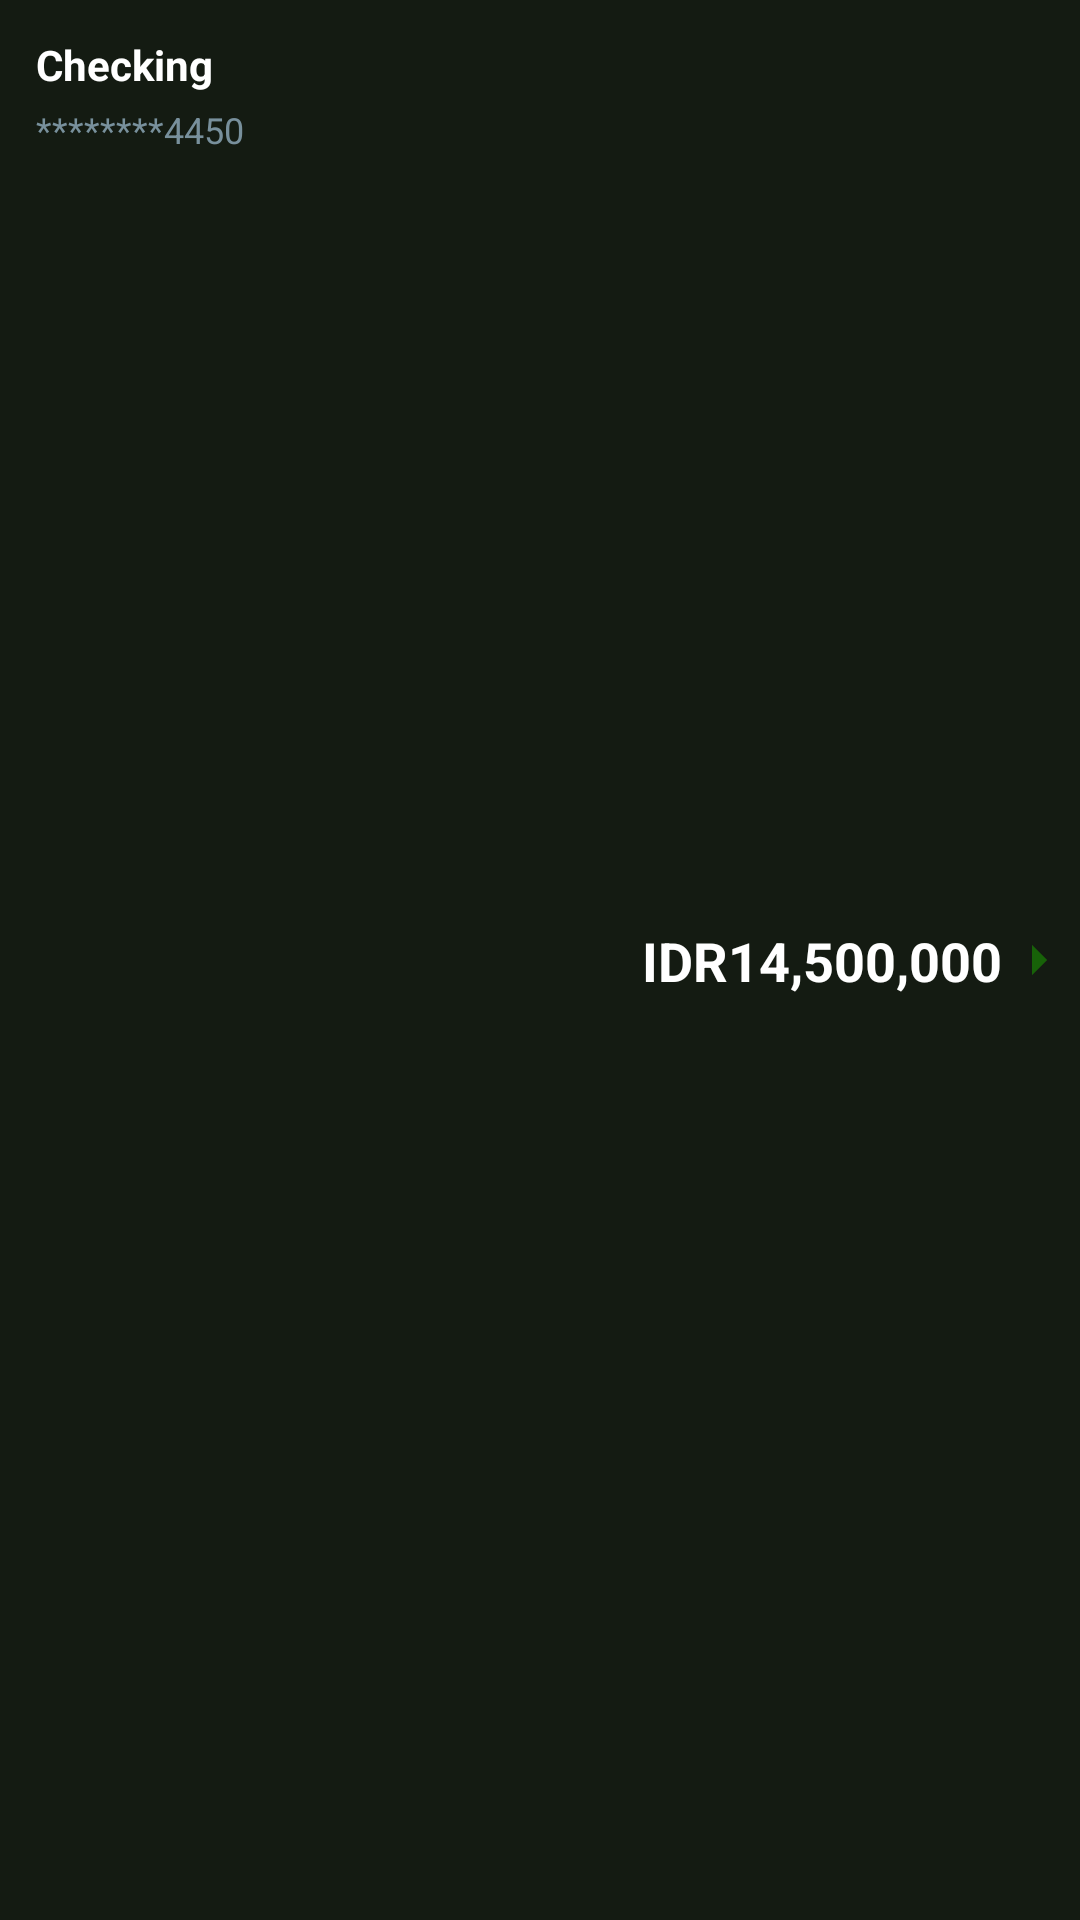

Icon bounding boxes for this 1080 x 1920 phone screenshot, format (x1, y1, x2, y2):
arrow right: (1032, 945, 1047, 975)
